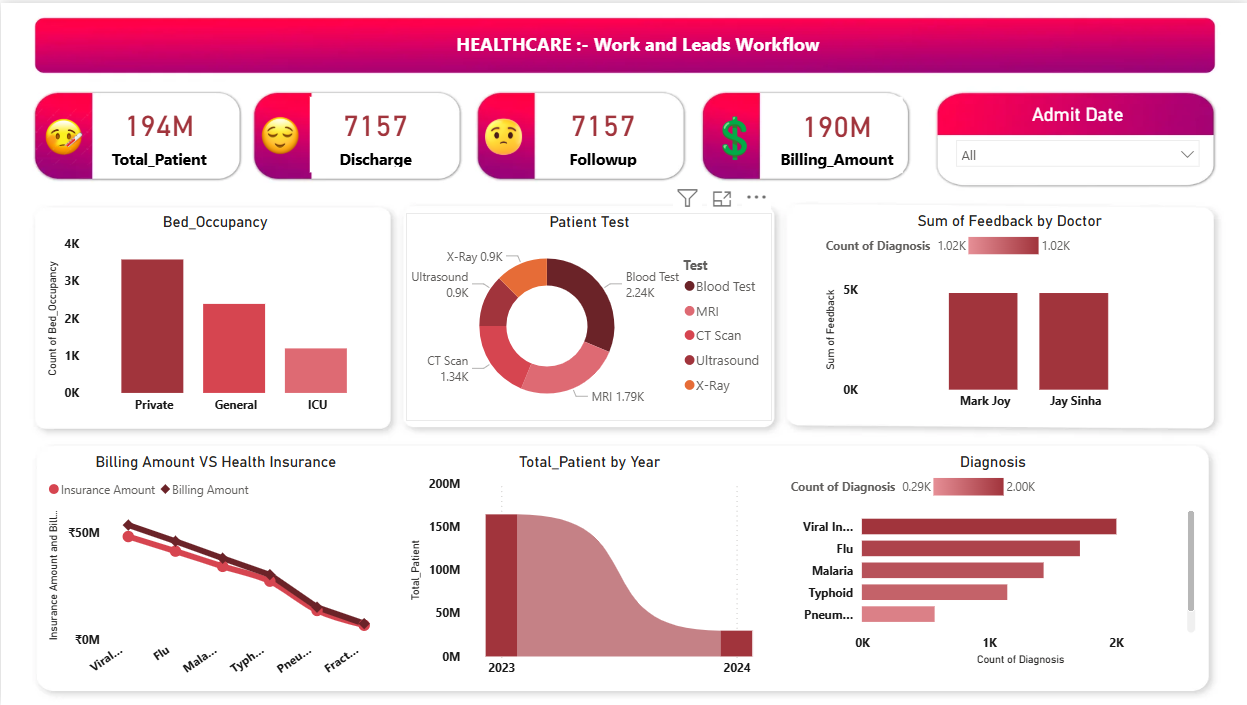

The dashboard page shown, as its layout file describes it:
{"tool":"powerbi","page":{"name":"Page 1","canvas":[1280,720],"ordinal":0},"visuals":[{"type":"textbox","box":[162.9,24.1,980.8,37.4],"z":1000},{"type":"slicer","title":"Admit Date","fields":{"Values":["Sheet1.Admit_Date"]},"box":[968.8,103.8,270.2,71.2],"z":2000},{"type":"columnChart","title":"Bed_Occupancy","fields":{"Category":["Sheet1.Bed_Occupancy"],"Y":["CountNonNull(Sheet1.Bed_Occupancy)"]},"box":[42.2,214.7,354.7,214.7],"z":3000},{"type":"donutChart","title":"Patient Test","fields":{"Category":["Sheet1.Test"],"Y":["CountNonNull(Sheet1.Patient_ID)"]},"box":[415,214.7,376.4,214.7],"z":4000},{"type":"barChart","title":"Diagnosis","fields":{"Category":["Sheet1.Diagnosis"],"Y":["CountNonNull(Sheet1.Diagnosis)"]},"box":[804.7,462.1,424.7,223.2],"z":5000},{"type":"lineChart","title":"Billing Amount VS Health Insurance","fields":{"Y":["Sum(Sheet1.Health Insurance Amount)","Sum(Sheet1.Billing Amount)"],"Category":["Sheet1.Diagnosis"]},"box":[43.4,462.1,353.5,238.9],"z":6000},{"type":"image","box":[715.4,109.9,74.7,57.1],"z":7000},{"type":"image","box":[254.9,109.9,62.6,51.6],"z":8000},{"type":"image","box":[22.5,97.2,81.7,77.5],"z":9000},{"type":"image","box":[479.1,103.3,71.4,65.9],"z":10000},{"type":"card","fields":{"Values":["Sheet1.Total_Patient"]},"box":[95.3,96.5,135.1,77.2],"z":11000},{"type":"card","fields":{"Values":["Sheet1.follow_upDate"]},"box":[550.1,96.5,135.1,77.2],"z":12000},{"type":"card","fields":{"Values":["Sheet1.Discharge"]},"box":[317.3,96.5,135.1,77.2],"z":13000},{"type":"card","fields":{"Values":["Sheet1.Billing_Amount"]},"box":[790.2,96.5,135.1,78.4],"z":14000},{"type":"ribbonChart","fields":{"Category":["Sheet1.Discharge_Date.Variation.Date Hierarchy.Year"],"Y":["Sheet1.Total_Patient"]},"box":[415,462.1,376.4,238.9],"z":15000},{"type":"columnChart","fields":{"Y":["Sum(Sheet1.Feedback)"],"Category":["Sheet1.Doctor"]},"box":[841.2,214.1,387,212.7],"z":16000}]}

Visuals, with their boxes in screenshot pixels (x1, y1, x2, y2), scaled from the page's 1280x720 canvas onto the 1247x705 screenshot:
textbox: (159,24,1114,60)
"Admit Date" slicer: (944,102,1207,171)
"Bed_Occupancy" columnChart: (41,210,387,420)
"Patient Test" donutChart: (404,210,771,420)
"Diagnosis" barChart: (784,452,1198,671)
"Billing Amount VS Health Insurance" lineChart: (42,452,387,686)
image: (697,108,770,164)
image: (248,108,309,158)
image: (22,95,102,171)
image: (467,101,536,166)
card - Sheet1.Total_Patient: (93,94,224,170)
card - Sheet1.follow_upDate: (536,94,668,170)
card - Sheet1.Discharge: (309,94,441,170)
card - Sheet1.Billing_Amount: (770,94,901,171)
ribbonChart - Sheet1.Discharge_Date.Variation.Date Hierarchy.Year x Sheet1.Total_Patient: (404,452,771,686)
columnChart - Sum(Sheet1.Feedback) x Sheet1.Doctor: (820,210,1197,418)
